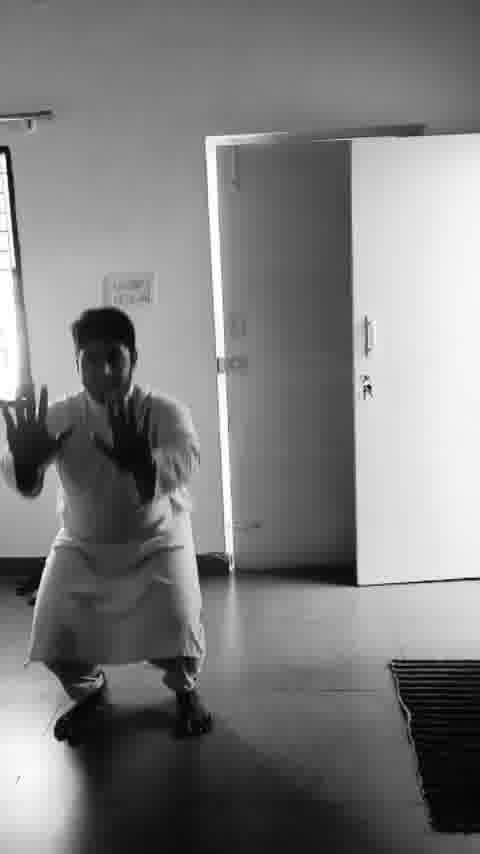duck: (9, 308, 213, 757)
